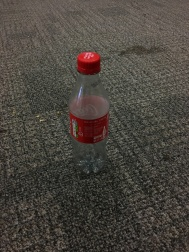bottle_red: (60, 41, 122, 185)
